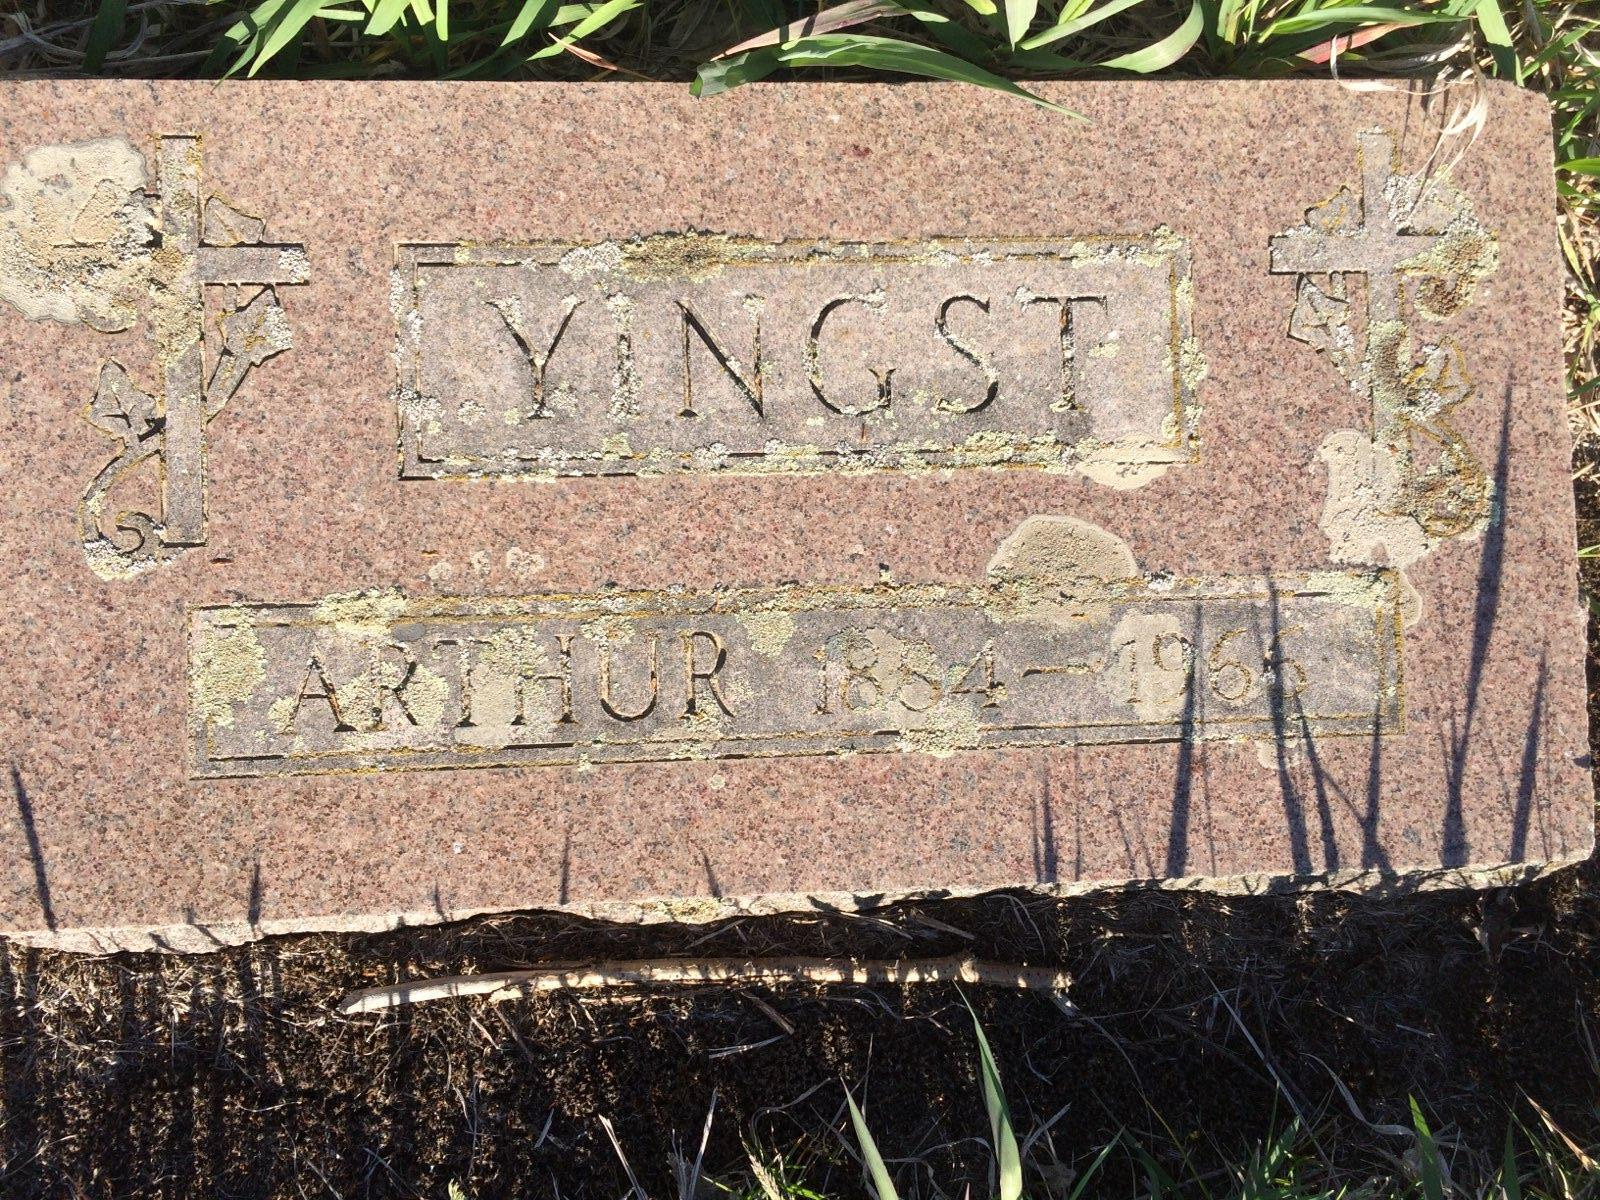flat: (16, 9, 1591, 943)
